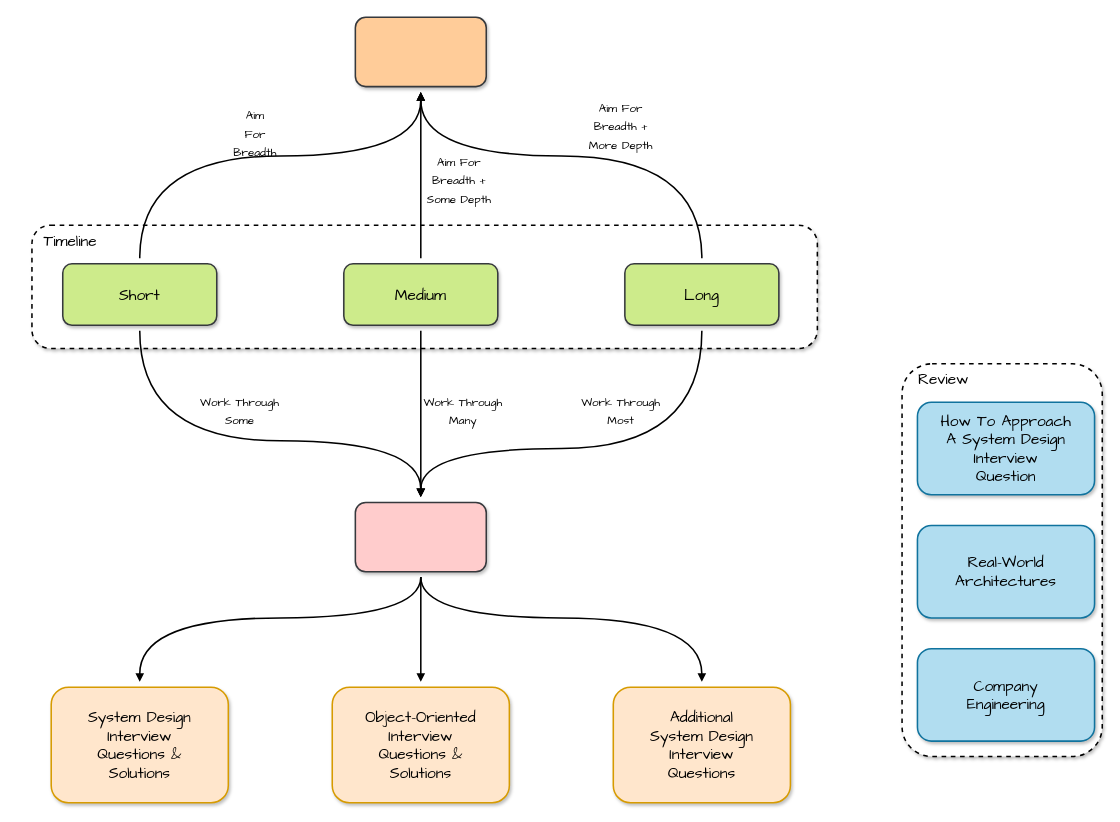
The diagram is 1120 pixels wide and 822 high, and some of its shapes have lost their labels. The centre of each missing label's shape, as x and y in pixels:
"Load Balancer" belongs at pixel 421 538.
"System Design Topics" belongs at pixel 421 52.
